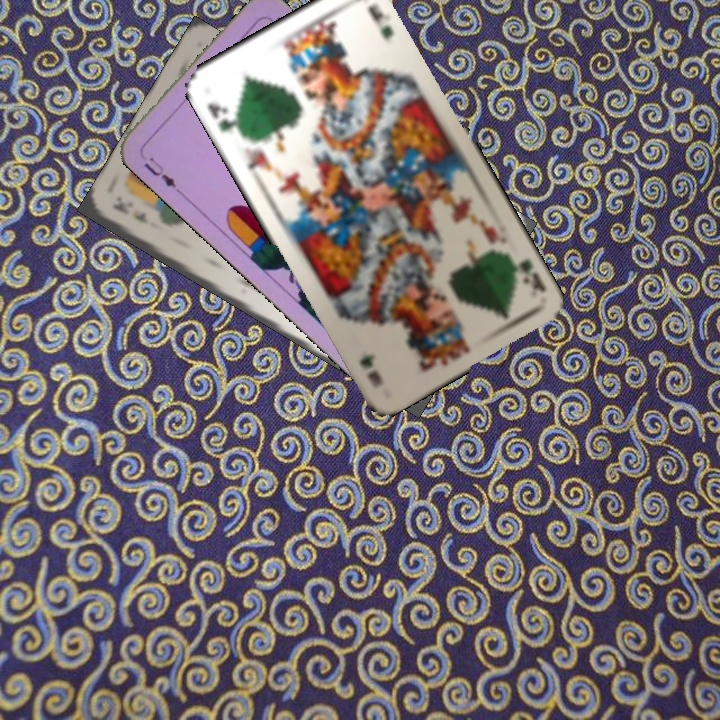EK: (108, 195, 150, 226)
EU: (140, 153, 184, 196)
GK: (505, 250, 549, 296), (202, 99, 246, 138)
